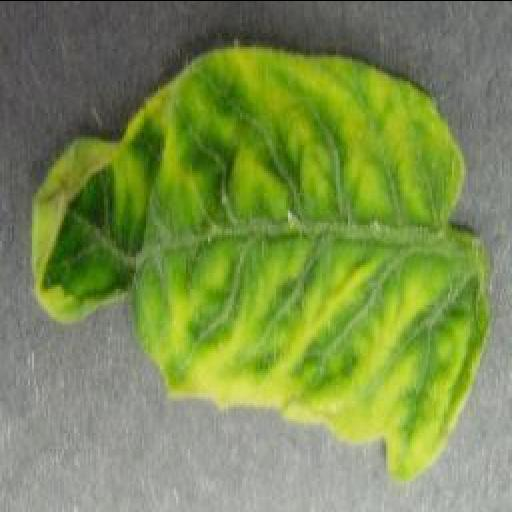disease_tomato: (34, 46, 490, 484)
